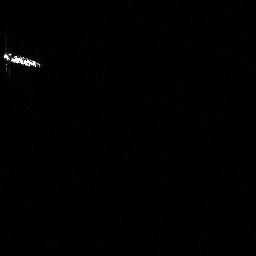ship: (2, 48, 42, 68)
